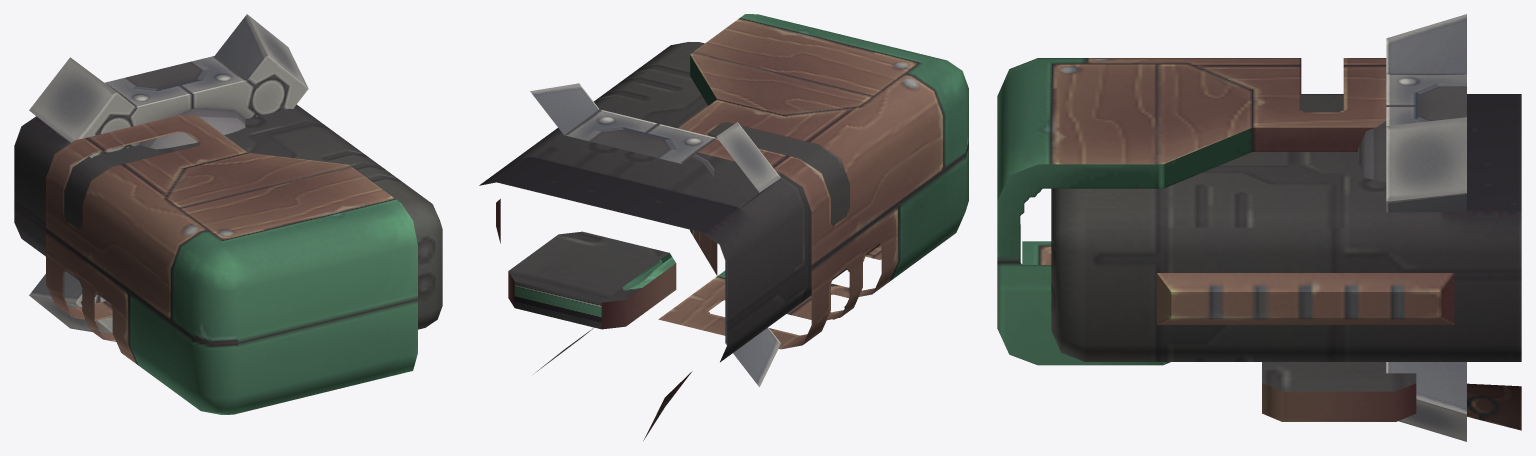
File: model_hunter-alchemy.glb
3 renders of one model, left to right at view 1: azimuth 30°, elevation 25°; view 2: azimuth 150°, elevation 25°; view 3: azimuth 270°, elevation 25°, orthographic. The views are drawn at different scales.
Visible parts, largest first — view 1: energy.model_hunter-alchemy-MeshNodes["vendingmachine_01"], energy.turret_01_base-Mesh[0]; view 2: energy.model_hunter-alchemy-MeshNodes["vendingmachine_01"], energy.turret_01_base-Mesh[0]; view 3: energy.model_hunter-alchemy-MeshNodes["vendingmachine_01"], energy.turret_01_base-Mesh[0].
Part boxes in pixels (left/top/right/bottom): energy.model_hunter-alchemy-MeshNodes["vendingmachine_01"]: left=14, top=104, right=442, bottom=414; energy.turret_01_base-Mesh[0]: left=29, top=14, right=308, bottom=334; energy.model_hunter-alchemy-MeshNodes["vendingmachine_01"]: left=479, top=14, right=968, bottom=440; energy.turret_01_base-Mesh[0]: left=530, top=83, right=780, bottom=386; energy.model_hunter-alchemy-MeshNodes["vendingmachine_01"]: left=997, top=58, right=1521, bottom=430; energy.turret_01_base-Mesh[0]: left=1357, top=14, right=1466, bottom=441.
Bounding box in the file's own units: 1.64 × 1.57 × 2.18.
Materials: 3 (3 with a texture image).
